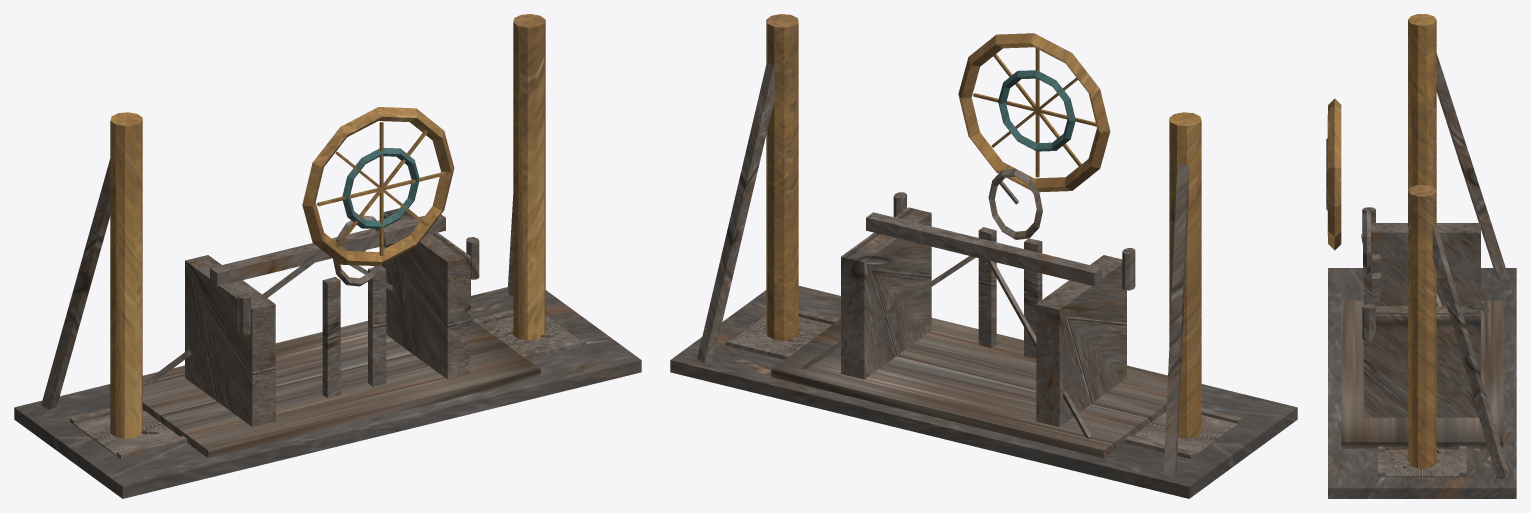
Rendered from north-outflow-gate.glb.
3 renders of one model, left to right at view 1: azimuth 30°, elevation 25°; view 2: azimuth 150°, elevation 25°; view 3: azimuth 270°, elevation 25°, orthographic. The views are drawn at different scales.
Visible parts, largest first — view 1: north-outflow-gate; view 2: north-outflow-gate; view 3: north-outflow-gate.
Part boxes in pixels (x1,y1,x2,y2): north-outflow-gate: (14,14,641,498); north-outflow-gate: (670,14,1297,498); north-outflow-gate: (1326,14,1516,498).
Bounding box in the file's own units: 11.6 × 6.96 × 4.24.
Materials: 1 (1 with a texture image).
